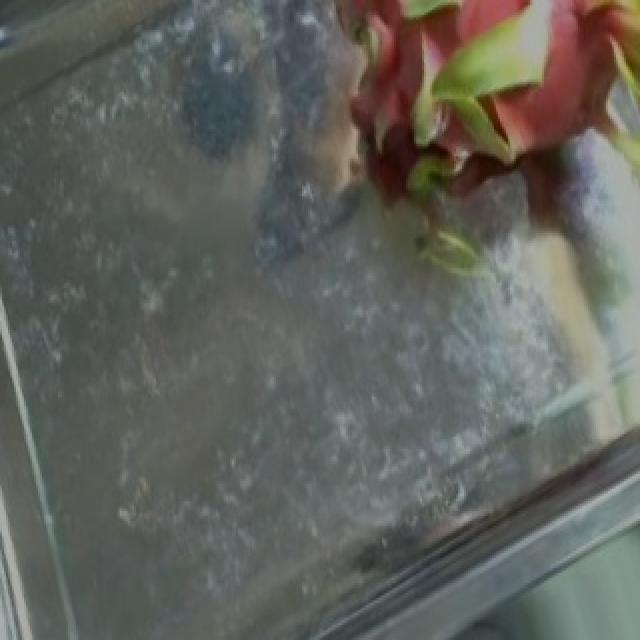fruit: (252, 0, 638, 337)
